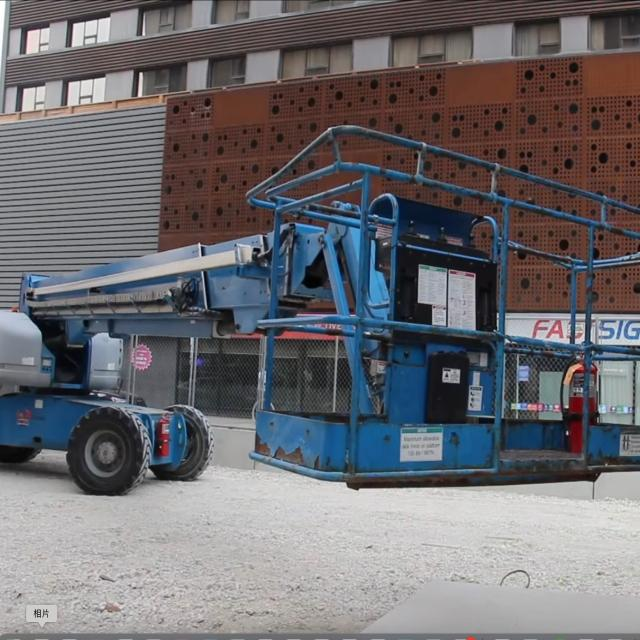2m above platform: (0, 118, 640, 508)
